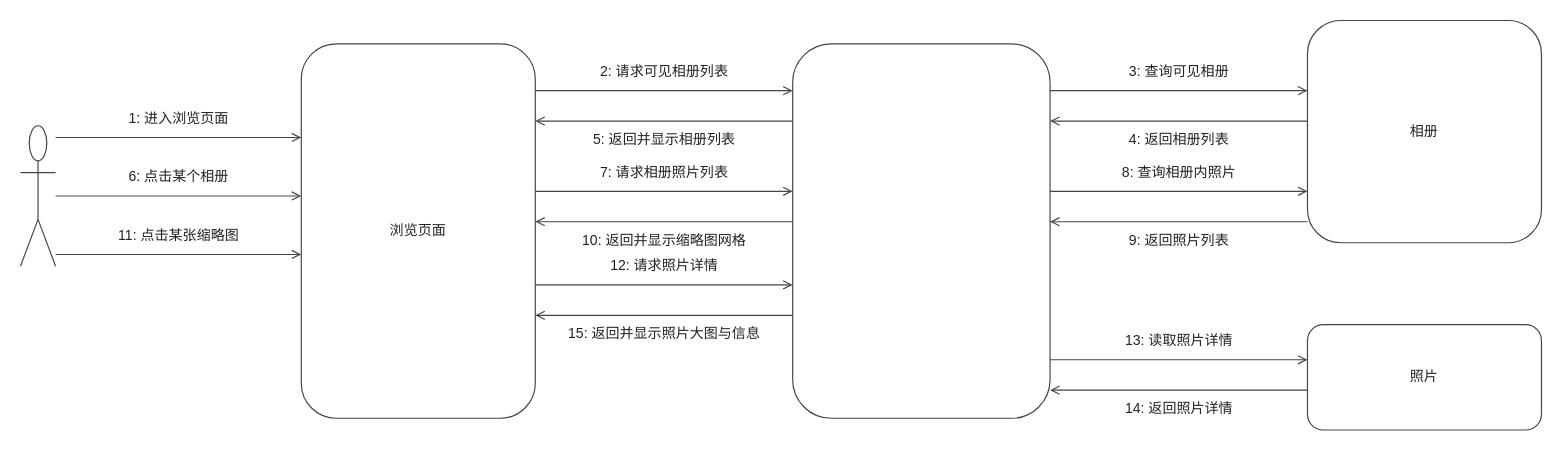
The diagram is 1562 pixels wide and 450 high, and some of its shapes have lost their labels. The shapes that lost their labels are listed below. From the top down, each one's centre as x and y in pixels, then its label:
point (37, 195): 用户
point (921, 230): 浏览控制器
